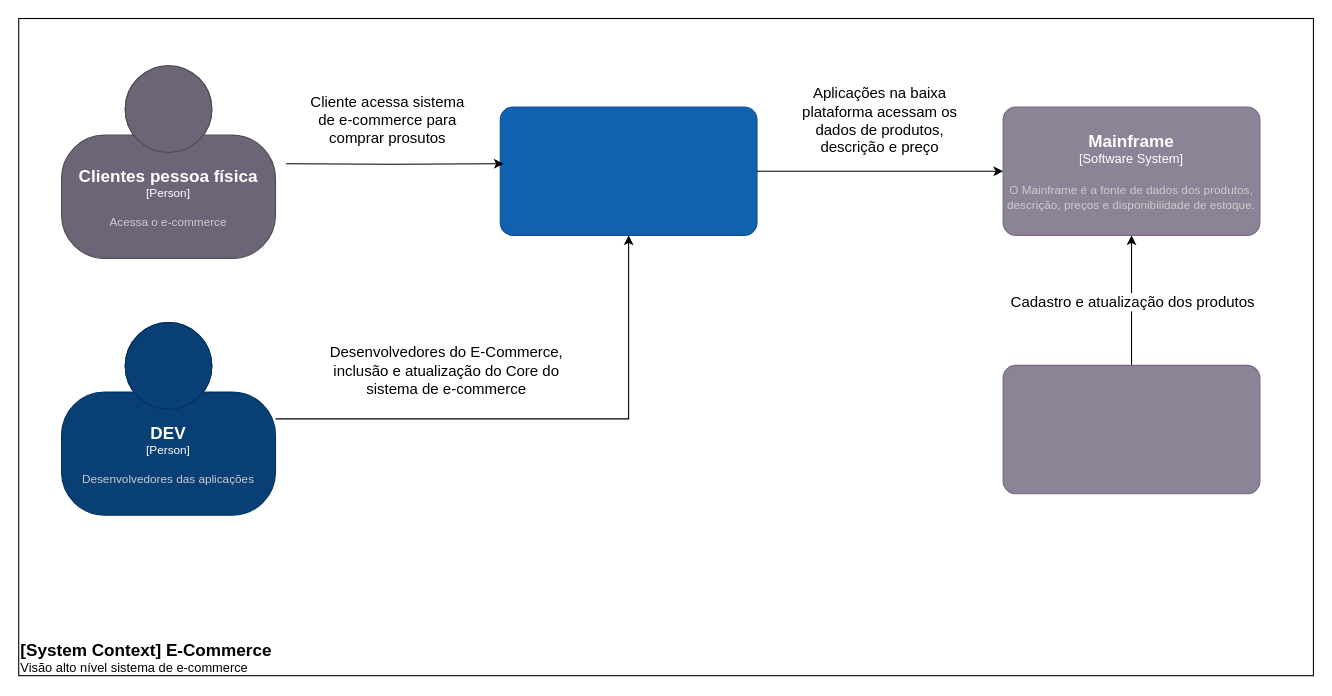
Some shapes in this 1332 by 696 pixel diagram are drawn without their labels. Here are the shapes that lost their labels. From the top down, the box of each, then its label:
(499, 106, 757, 235): Sistema E-Commerce [Software System]
(1002, 364, 1260, 494): SAP HANA [Software System] ERP corporativo
